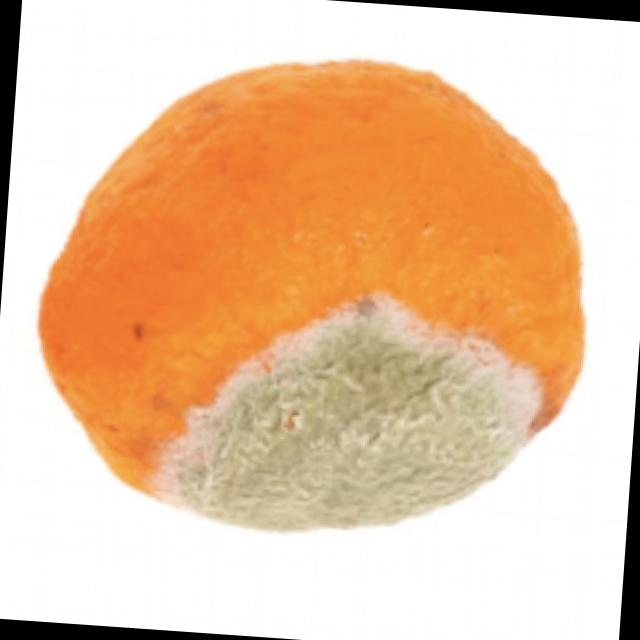rotten-orange: (21, 36, 598, 546)
